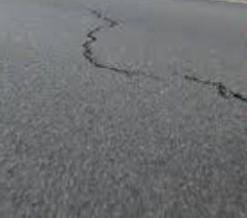crack: (67, 3, 247, 100)
